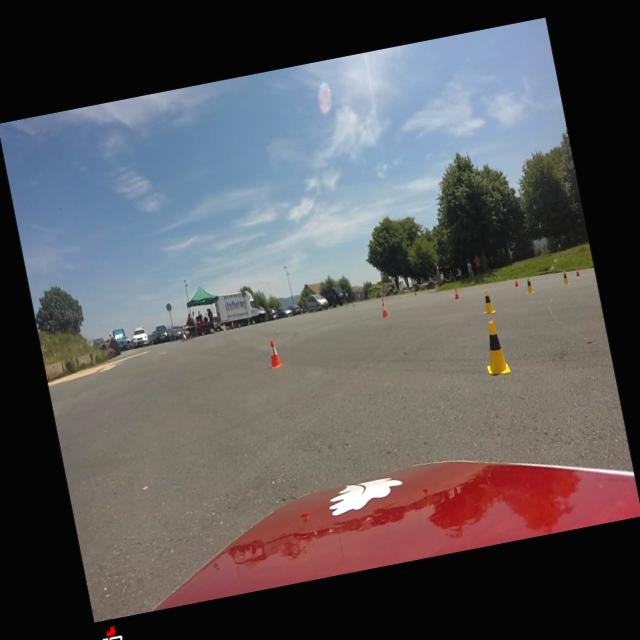orange_cone: (266, 338, 284, 368), (380, 301, 389, 318), (453, 287, 460, 300), (514, 277, 520, 288), (380, 297, 386, 307), (575, 266, 580, 276), (413, 290, 418, 296), (230, 321, 234, 326)
yellow_cone: (479, 319, 511, 377), (480, 288, 496, 316), (524, 276, 534, 295), (561, 270, 569, 286)
